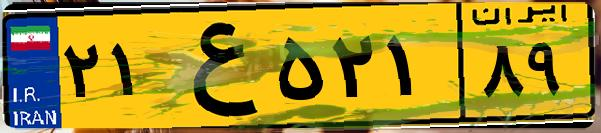1: (385, 28, 445, 110), (110, 28, 158, 98)
2: (330, 28, 385, 110), (57, 26, 110, 100)
5: (270, 28, 330, 110)
8: (475, 38, 525, 113)
9: (525, 38, 570, 115)
ع: (158, 12, 270, 120)
